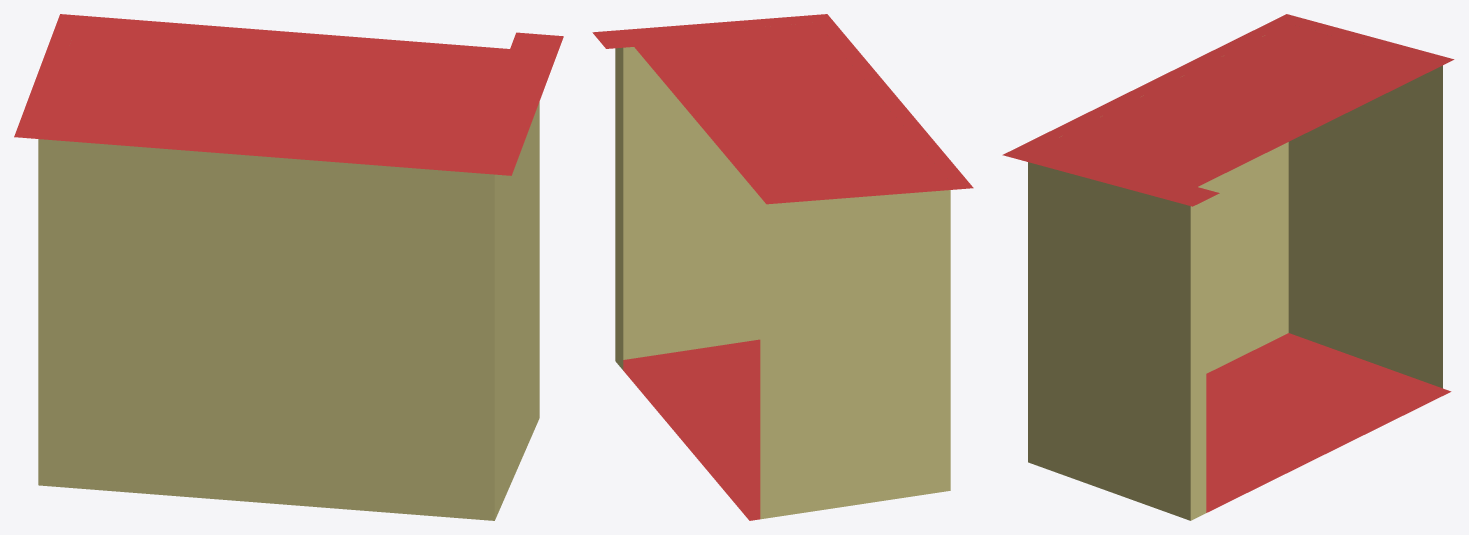
3 renders of one model, left to right at view 1: azimuth 30°, elevation 25°; view 2: azimuth 150°, elevation 25°; view 3: azimuth 270°, elevation 25°, orthographic. The views are drawn at different scales.
Bounding box in the file's own units: 13.62 × 12.42 × 9.85.
